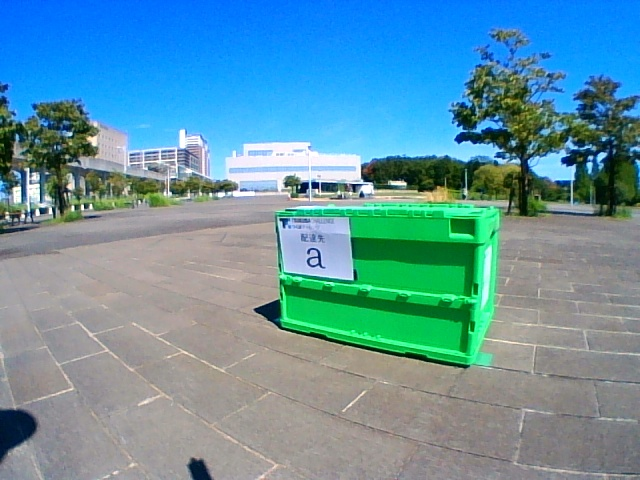green_box: (275, 203, 498, 365)
tag_a: (285, 221, 348, 274)
